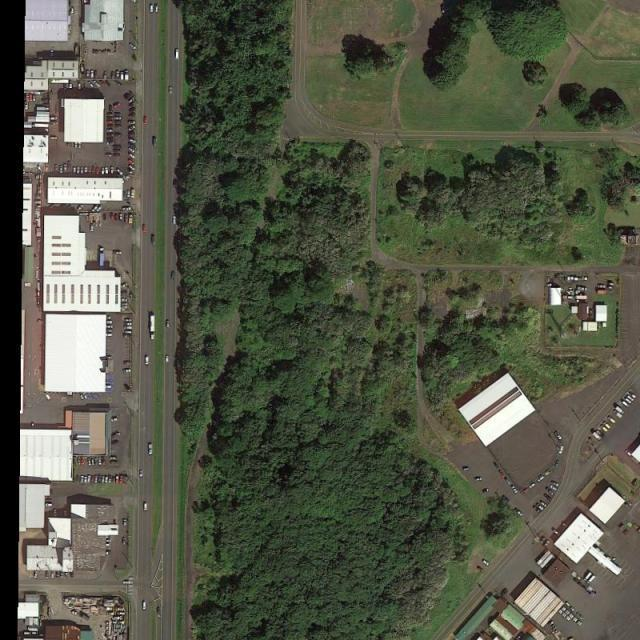vehicle: (150, 316, 155, 342), (583, 571, 594, 582), (586, 575, 597, 585), (100, 247, 105, 267), (615, 406, 624, 415), (128, 42, 138, 50), (514, 508, 522, 517), (494, 462, 502, 471), (554, 431, 562, 440), (532, 506, 541, 514), (175, 49, 181, 60), (614, 410, 622, 418), (544, 540, 552, 548), (510, 486, 518, 494), (503, 478, 511, 486), (539, 499, 547, 507), (543, 494, 552, 501), (536, 503, 545, 510), (116, 168, 124, 175), (114, 102, 121, 110), (626, 395, 634, 402), (603, 422, 610, 430), (624, 449, 631, 457), (554, 530, 561, 538), (498, 470, 505, 478), (546, 488, 554, 495), (142, 224, 147, 234), (128, 131, 135, 138), (128, 158, 135, 165), (115, 80, 122, 87), (608, 417, 615, 424), (629, 392, 636, 399), (601, 425, 608, 432), (551, 480, 558, 487), (92, 205, 98, 213), (97, 206, 103, 214), (128, 146, 136, 152), (46, 394, 52, 402), (111, 440, 119, 446), (106, 80, 112, 88), (126, 91, 132, 99), (622, 401, 630, 407), (623, 397, 631, 403), (477, 566, 483, 574), (482, 561, 490, 567), (482, 489, 490, 495), (550, 485, 558, 491), (151, 235, 155, 246), (171, 270, 175, 281), (130, 102, 136, 109), (128, 125, 135, 131), (130, 138, 137, 144), (129, 142, 136, 148), (128, 164, 134, 171), (121, 283, 128, 289), (94, 80, 100, 87), (129, 97, 135, 104), (122, 206, 132, 210), (125, 214, 130, 222), (130, 215, 134, 225), (149, 445, 153, 455), (122, 518, 127, 526), (87, 458, 92, 466), (94, 458, 99, 466), (172, 216, 176, 225), (110, 212, 114, 221), (129, 152, 135, 158), (124, 326, 133, 330), (80, 475, 84, 484), (63, 165, 68, 172), (78, 204, 83, 211), (124, 361, 131, 366), (89, 81, 94, 88), (100, 79, 105, 86), (114, 250, 122, 254), (122, 580, 130, 584), (123, 370, 131, 374), (78, 458, 82, 466), (91, 458, 95, 466), (110, 457, 118, 461), (106, 142, 114, 146), (90, 70, 94, 78), (86, 70, 90, 78), (103, 71, 107, 79), (116, 70, 120, 78), (560, 446, 564, 454), (130, 107, 136, 112), (129, 113, 135, 118), (121, 70, 124, 80), (68, 160, 72, 167), (55, 165, 59, 172), (166, 322, 170, 329), (106, 154, 113, 158), (105, 167, 109, 174), (122, 538, 126, 545), (123, 334, 130, 338), (111, 418, 118, 422), (81, 459, 85, 466), (98, 458, 102, 465), (25, 102, 29, 109), (42, 98, 49, 102), (150, 5, 154, 12), (112, 71, 116, 78), (598, 284, 605, 288), (475, 478, 482, 482), (77, 168, 81, 174), (131, 190, 134, 198), (115, 213, 118, 221), (119, 213, 122, 221), (146, 357, 149, 365), (114, 133, 122, 136), (114, 148, 120, 152), (114, 153, 120, 157), (78, 142, 82, 148), (128, 121, 136, 124), (111, 166, 114, 174), (51, 570, 54, 578), (125, 318, 131, 322), (125, 322, 131, 326), (139, 470, 142, 478), (144, 503, 147, 511), (84, 476, 87, 484), (87, 476, 91, 482), (114, 116, 122, 119), (78, 82, 81, 90), (153, 138, 156, 146), (106, 133, 114, 136), (170, 86, 173, 94), (71, 6, 74, 14), (51, 50, 54, 58), (126, 71, 129, 79), (60, 166, 63, 173), (127, 190, 130, 197), (166, 357, 169, 364), (96, 167, 99, 174), (114, 120, 121, 123), (114, 125, 121, 128), (102, 167, 105, 174), (90, 225, 93, 232), (114, 113, 121, 116), (54, 510, 57, 517), (143, 602, 146, 609), (98, 476, 101, 483), (94, 476, 97, 483), (50, 118, 57, 121), (50, 137, 57, 140), (144, 118, 147, 125), (110, 106, 113, 113), (107, 113, 114, 116), (106, 130, 113, 133), (94, 71, 97, 78), (121, 298, 126, 302), (85, 167, 88, 173), (114, 145, 120, 148), (75, 142, 78, 148), (112, 478, 115, 484), (116, 477, 119, 483), (64, 511, 67, 517), (46, 571, 49, 577), (91, 477, 94, 483), (106, 121, 112, 124), (156, 4, 158, 13), (462, 467, 468, 470), (90, 166, 92, 174), (106, 125, 114, 127), (81, 167, 83, 174), (74, 166, 76, 173), (93, 166, 95, 173), (33, 94, 35, 101), (30, 94, 32, 101), (70, 81, 72, 88), (121, 478, 123, 484), (46, 504, 52, 506), (61, 571, 63, 577), (109, 477, 111, 483), (102, 477, 104, 483), (106, 477, 108, 482), (107, 138, 112, 140), (107, 118, 112, 120), (57, 571, 58, 578)
